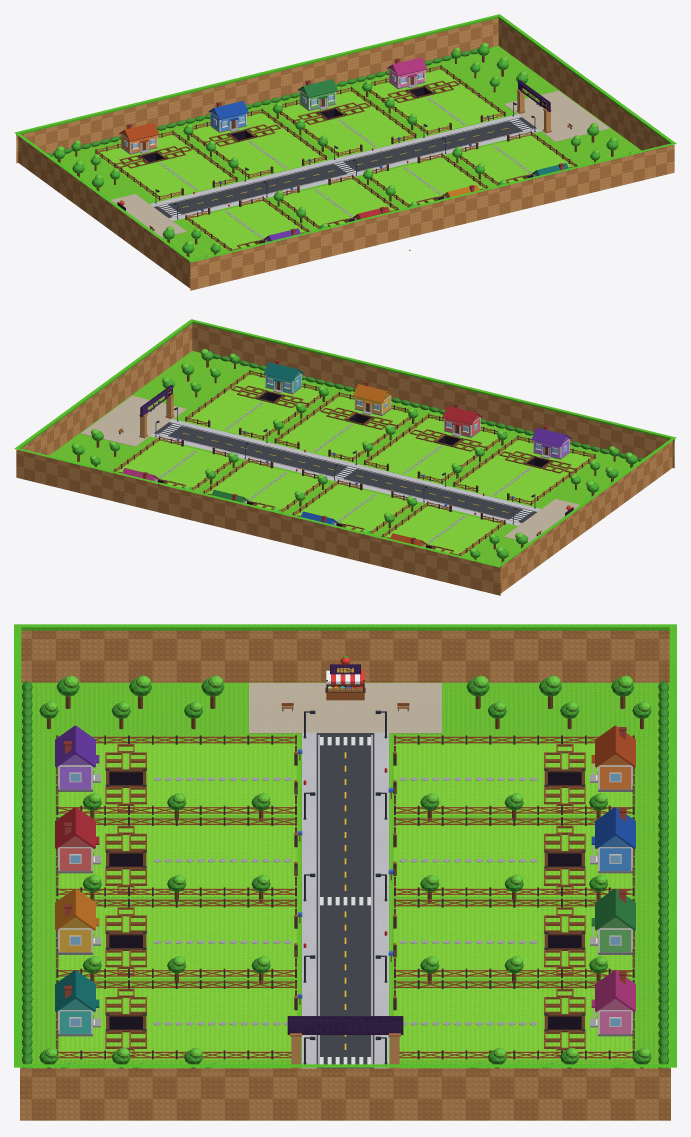
Rendered from FeedTheThing_Map.fbx.
3 renders of one model, top to bottom at view 1: azimuth 30°, elevation 25°; view 2: azimuth 150°, elevation 25°; view 3: azimuth 270°, elevation 25°, orthographic. The views are drawn at different scales.
Parts seen in each view (by area): view 1: Wall, Lawn, Grass, Road, WallTop, Trees, Plaza, Sidewalk, Plot6, Plot4, Plot2, Plot8 (+11 smaller); view 2: Wall, Lawn, Grass, Road, WallTop, Trees, Plaza, Sidewalk, Plot5, Plot3, Plot1, Plot7 (+11 smaller); view 3: Lawn, Wall, Grass, Road, WallTop, Trees, Plaza, Sidewalk, Hedges, Plot5, Plot3, Plot6 (+17 smaller).
Boxes of the visible parts, x1,y1,x2,y2 form: Wall: [16, 18, 674, 290]; Lawn: [96, 69, 573, 251]; Grass: [52, 46, 643, 262]; Road: [154, 117, 536, 217]; WallTop: [14, 14, 676, 262]; Trees: [53, 42, 636, 259]; Plaza: [111, 90, 609, 237]; Sidewalk: [150, 114, 540, 220]; Plot6: [95, 130, 237, 200]; Plot4: [274, 86, 416, 156]; Plot2: [184, 108, 326, 178]; Plot8: [363, 65, 505, 135]; Wall: [16, 323, 674, 595]; Lawn: [117, 374, 594, 556]; Grass: [47, 351, 638, 567]; Road: [154, 422, 536, 522]; WallTop: [14, 319, 676, 567]; Trees: [54, 348, 637, 564]; Plaza: [81, 395, 579, 542]; Sidewalk: [150, 419, 540, 525]; Plot5: [453, 435, 595, 505]; Plot3: [274, 391, 416, 461]; Plot1: [364, 413, 506, 483]; Plot7: [185, 370, 327, 440]; Lawn: [56, 743, 634, 1059]; Wall: [20, 630, 670, 1120]; Grass: [20, 682, 670, 1068]; Road: [316, 733, 374, 1068]; WallTop: [14, 624, 676, 1067]; Trees: [39, 675, 651, 1068]; Plaza: [249, 683, 441, 733]; Sidewalk: [302, 732, 388, 1068]; Hedges: [22, 681, 668, 1068]; Plot5: [56, 735, 302, 814]; Plot3: [56, 898, 302, 977]; Plot6: [388, 735, 634, 814].
Bounding box in the file's own units: 435 × 56.7 × 275.
Materials: 12 (7 with a texture image).
